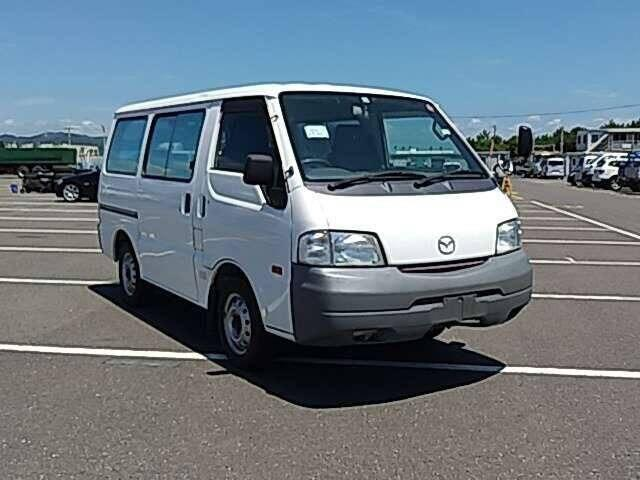van: (97, 85, 535, 366)
